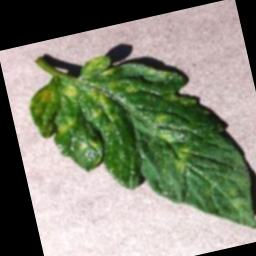Leaf_Mold: (76, 49, 145, 127), (26, 84, 60, 118), (171, 147, 195, 175), (60, 83, 79, 100)
